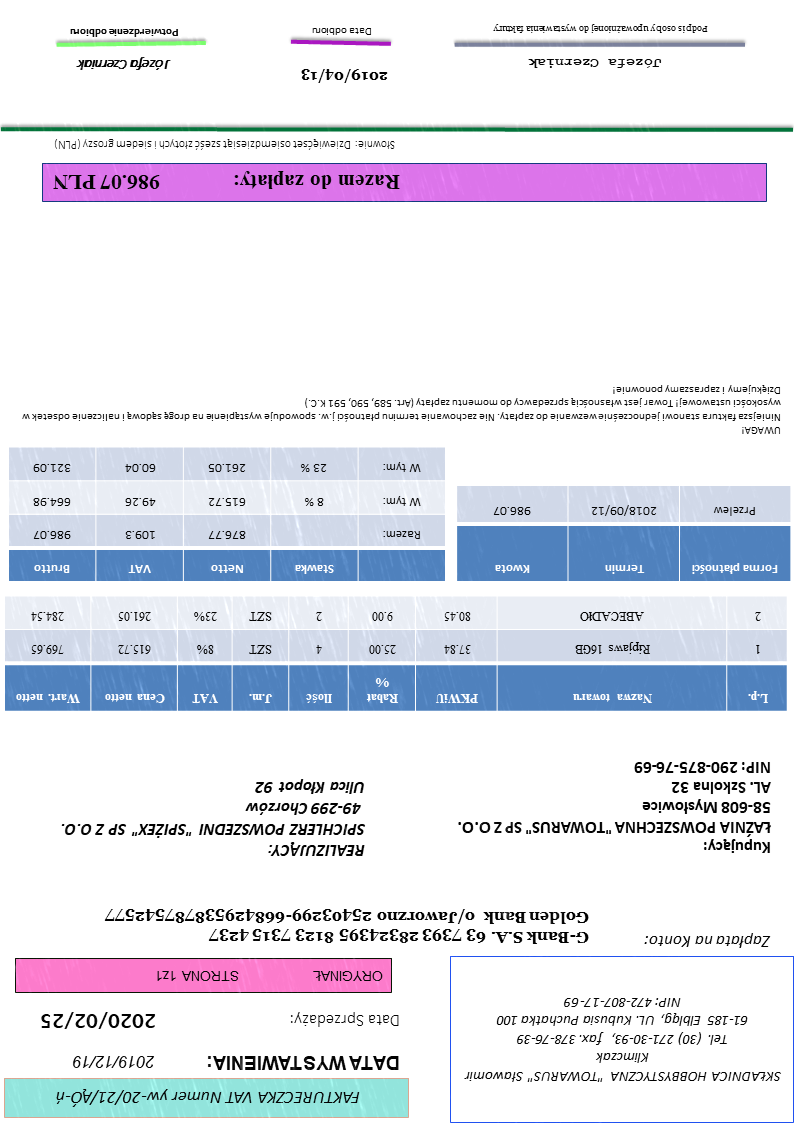Table: (5, 593, 789, 715), (6, 445, 446, 583), (457, 483, 792, 583)
TextBox: (19, 381, 784, 440), (456, 759, 774, 859), (460, 993, 787, 1088), (58, 776, 368, 862), (102, 903, 592, 950), (52, 169, 403, 196), (51, 1085, 365, 1112), (50, 135, 398, 155), (151, 966, 387, 988), (204, 1051, 403, 1076), (491, 22, 711, 38), (38, 1010, 159, 1035), (288, 1009, 402, 1033), (644, 933, 772, 953), (527, 56, 665, 72), (68, 1051, 159, 1075), (74, 55, 175, 76), (300, 64, 392, 87), (66, 24, 182, 41), (309, 25, 376, 40)
